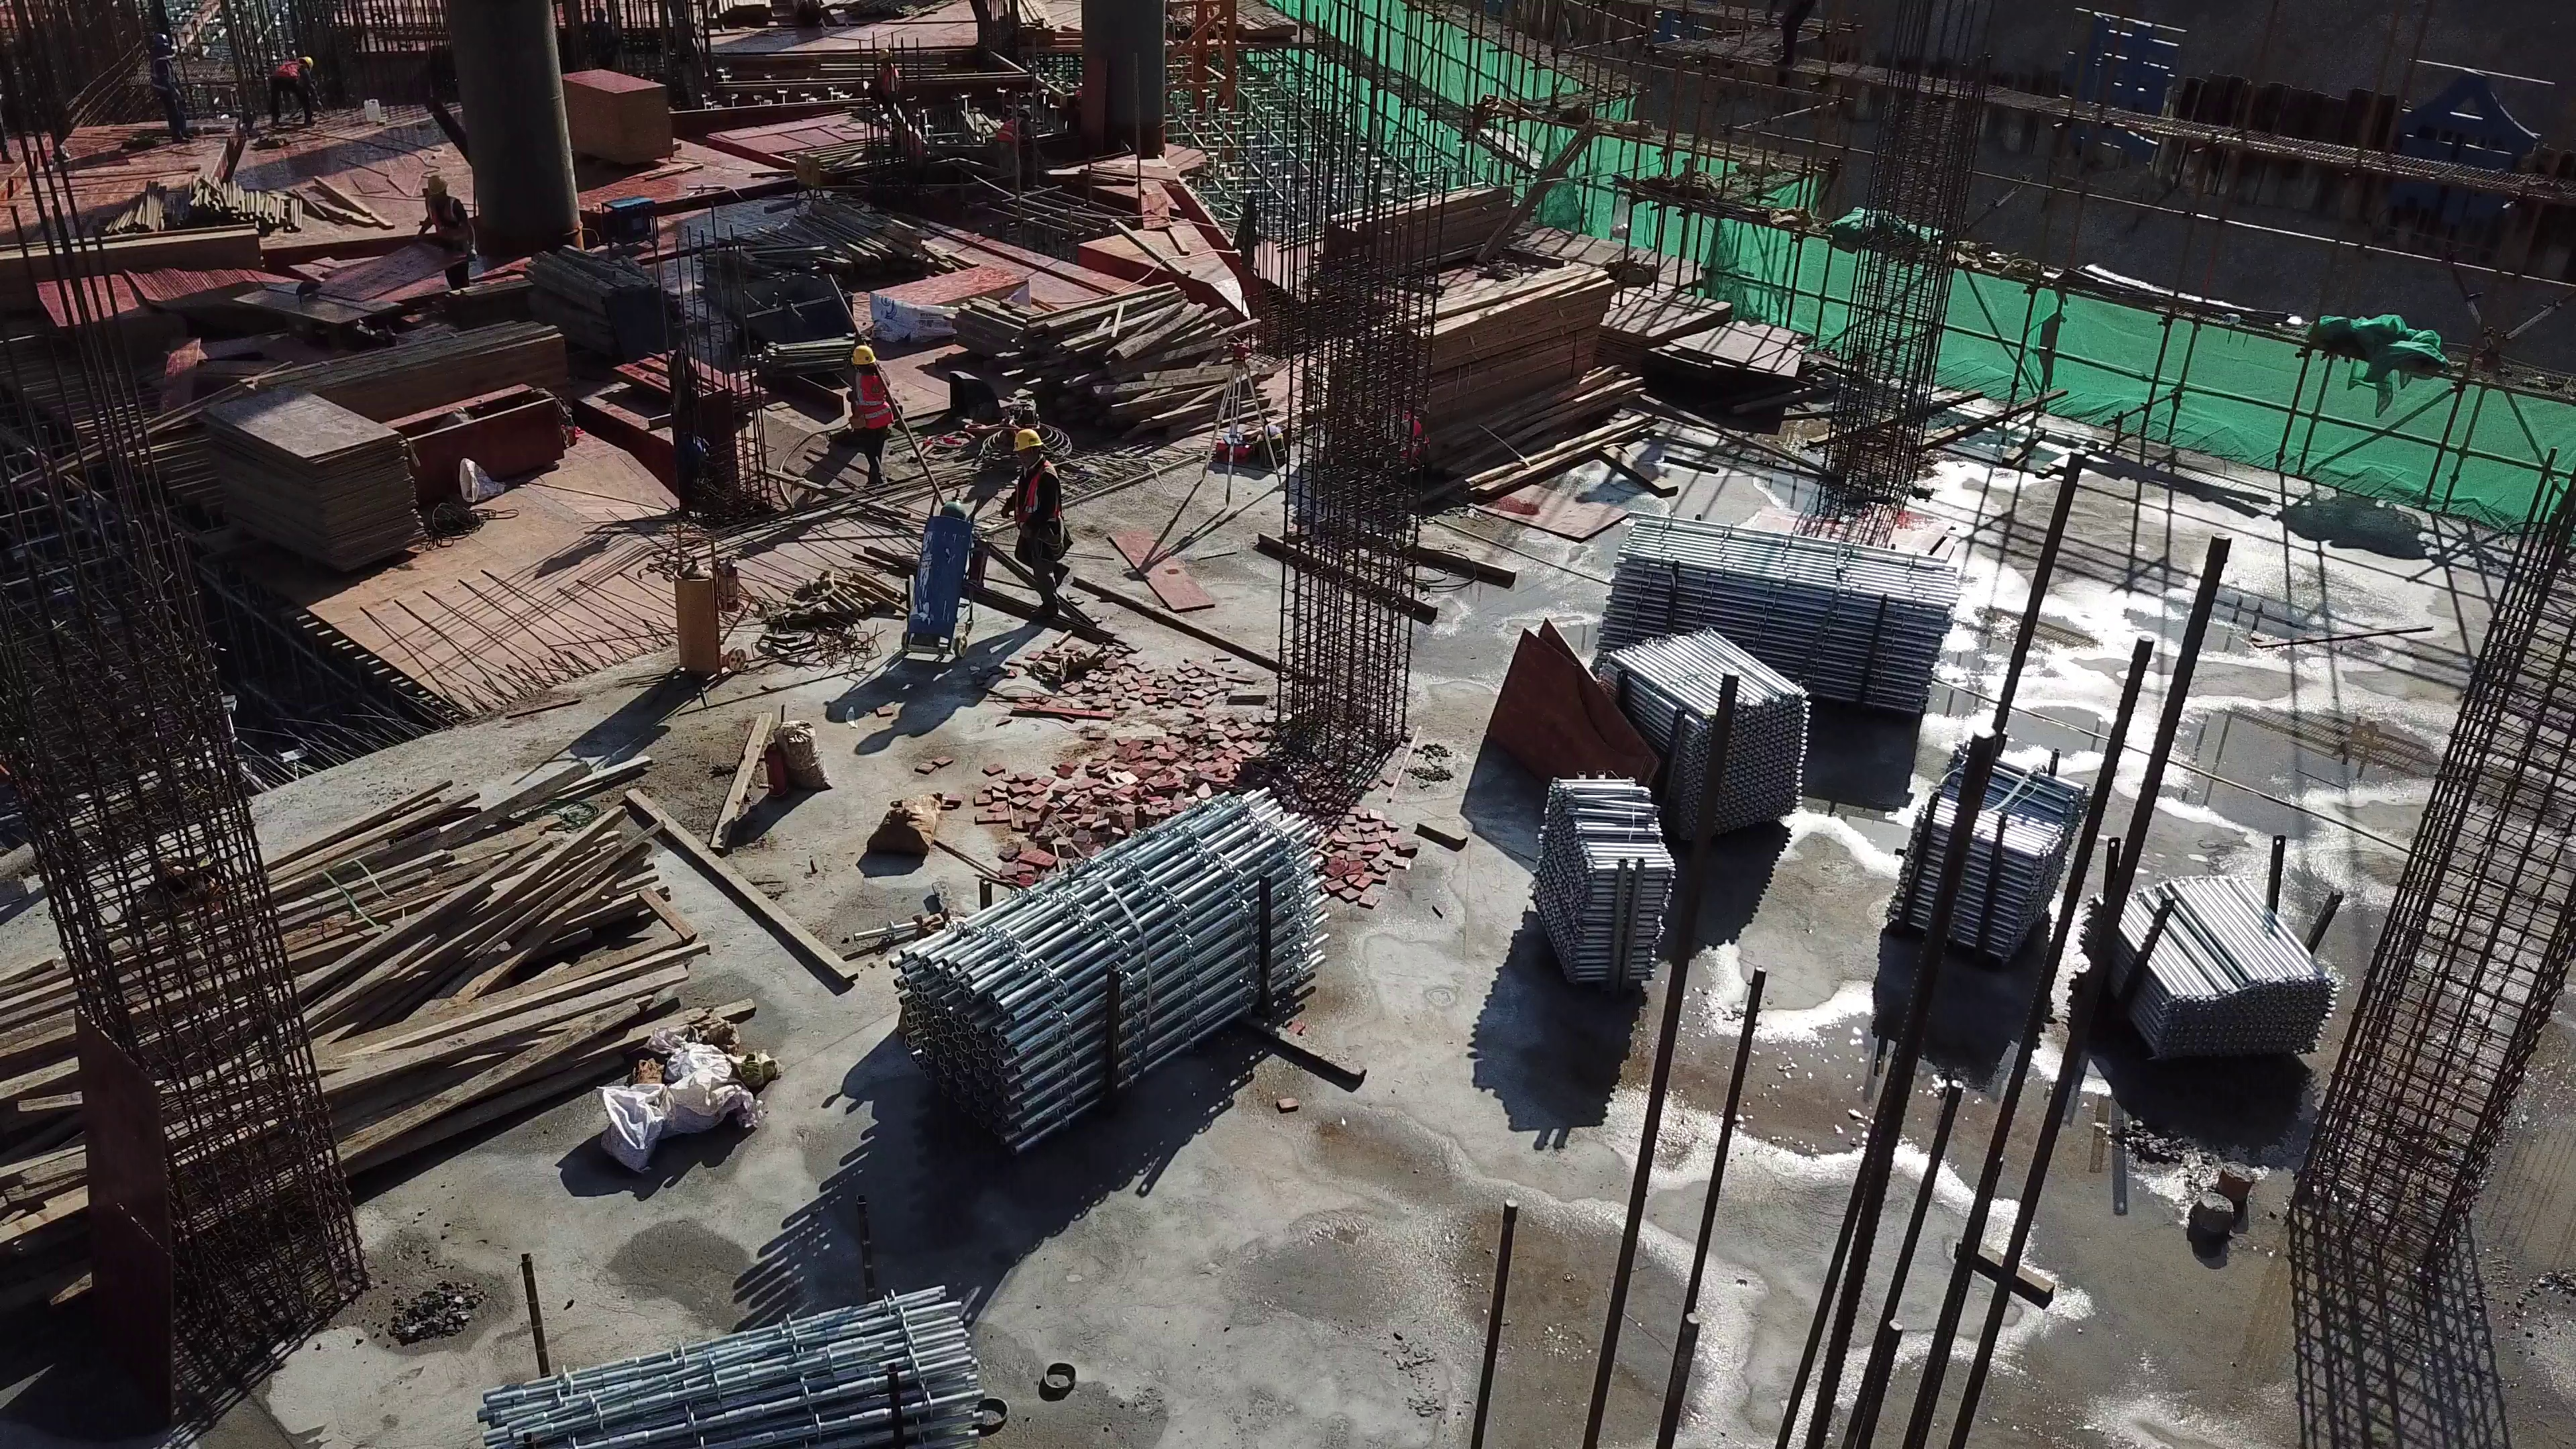board: (200, 383, 423, 568), (565, 64, 670, 161), (883, 268, 1028, 311)
cutter: (233, 281, 400, 325)
ebox: (788, 153, 826, 203)
helmet: (847, 339, 873, 368), (1012, 426, 1042, 453), (424, 179, 447, 198), (303, 53, 315, 72), (878, 45, 890, 62)
hopper: (707, 282, 847, 341)
person: (996, 427, 1073, 619), (849, 343, 896, 490), (417, 174, 478, 287), (146, 33, 199, 144), (1367, 402, 1436, 469), (268, 55, 325, 127), (1766, 2, 1815, 69), (998, 110, 1036, 180), (876, 48, 898, 117)
scaffold: (899, 796, 1333, 1158), (476, 1291, 974, 1446), (1599, 513, 1943, 731), (2086, 869, 2327, 1070), (1599, 635, 1805, 836), (1892, 747, 2068, 963), (1525, 758, 1656, 992)
vest: (1014, 465, 1059, 526), (855, 370, 891, 425), (1391, 411, 1430, 461), (428, 198, 466, 242), (1000, 115, 1017, 143), (277, 60, 299, 78), (881, 66, 892, 96)
wood: (1350, 252, 1614, 423), (263, 316, 578, 428), (527, 246, 684, 356), (1330, 182, 1509, 271), (3, 221, 265, 281)
